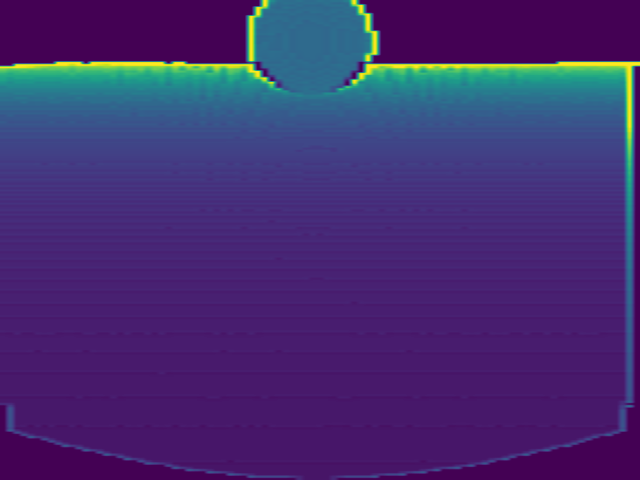sphere: (245, 1, 378, 95)
